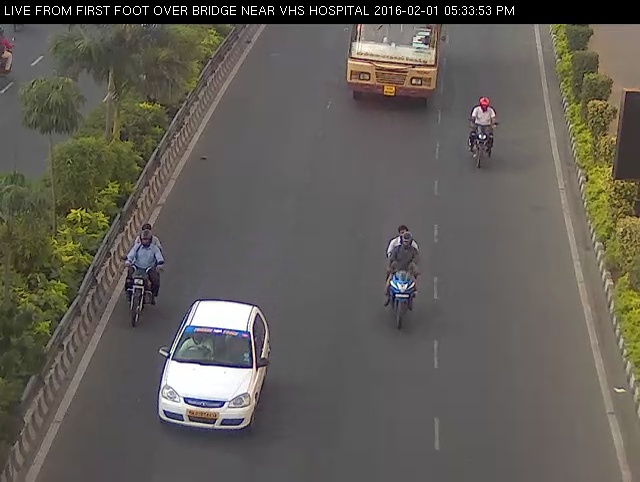Bus: (340, 15, 448, 115)
Car: (145, 285, 282, 445)
Person: (112, 218, 169, 335), (377, 215, 428, 340), (462, 89, 503, 179)
